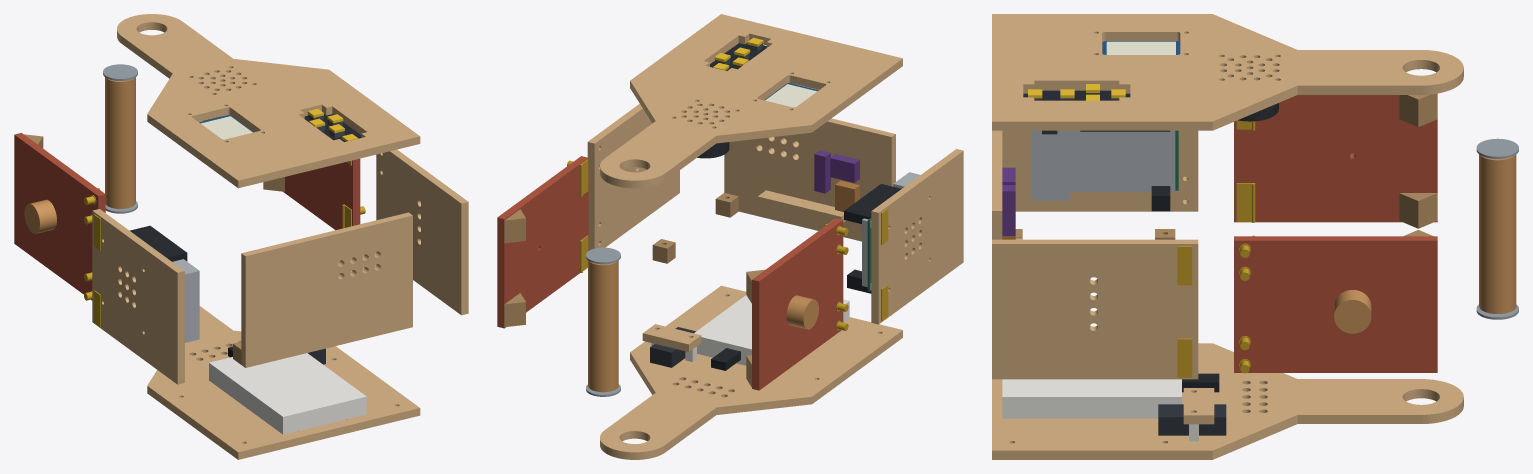
Rendered from house_exploded-CbWfo_jK.glb.
3 views of the same model, side by side, from view 1: azimuth 30°, elevation 25°; view 2: azimuth 150°, elevation 25°; view 3: azimuth 270°, elevation 25° (orthographic). The views are drawn at different scales.
Visible parts, largest first — view 1: house_exploded_mesh (×11); view 2: house_exploded_mesh (×15); view 3: house_exploded_mesh (×13).
Boxes of the visible parts, x1,y1,x2,y2 form: house_exploded_mesh (×11): [14, 14, 468, 459]; house_exploded_mesh (×15): [497, 14, 963, 459]; house_exploded_mesh (×13): [992, 14, 1518, 459].
Size of the model in its own units: 0.2478 by 0.22 by 0.3105.
